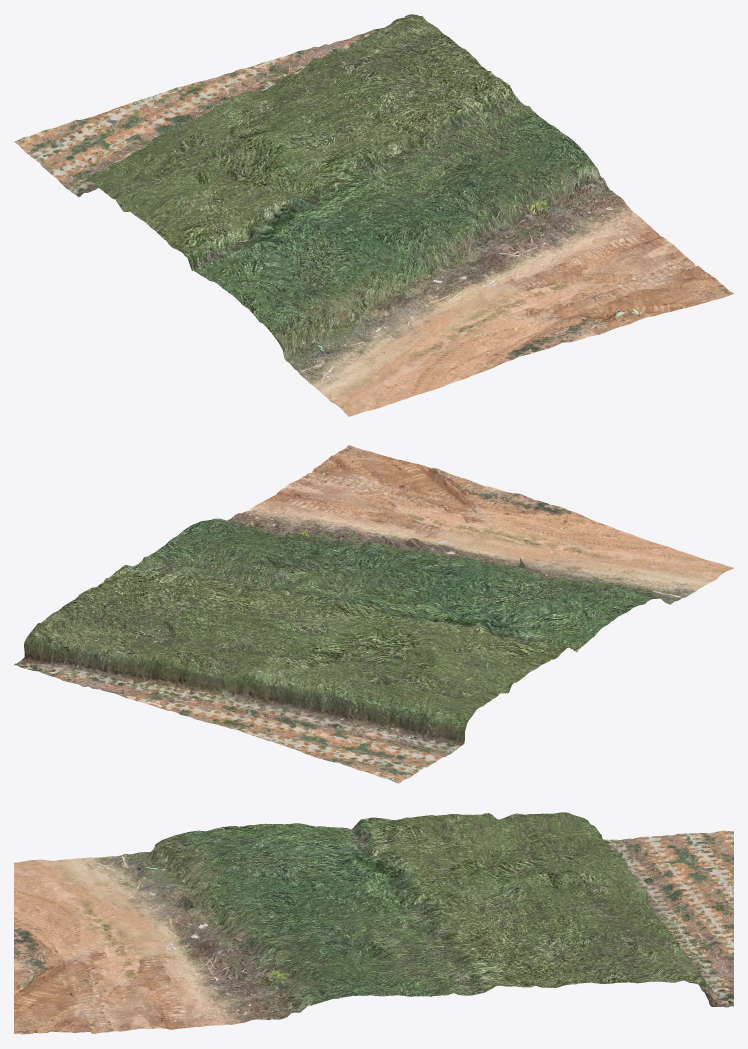
Rendered from BlockYXYY_L21_39.glb.
3 renders of one model, top to bottom at view 1: azimuth 30°, elevation 25°; view 2: azimuth 150°, elevation 25°; view 3: azimuth 270°, elevation 25°, orthographic. The views are drawn at different scales.
Parts seen in each view (by area): view 1: rtc; view 2: rtc; view 3: rtc.
Boxes of the visible parts, <box> form: rtc: <box>14,14,733,416</box>; rtc: <box>14,445,733,783</box>; rtc: <box>14,812,733,1034</box>.
Size of the model in its own units: 16.37 by 3.24 by 24.67.
Materials: 8 (8 with a texture image).
